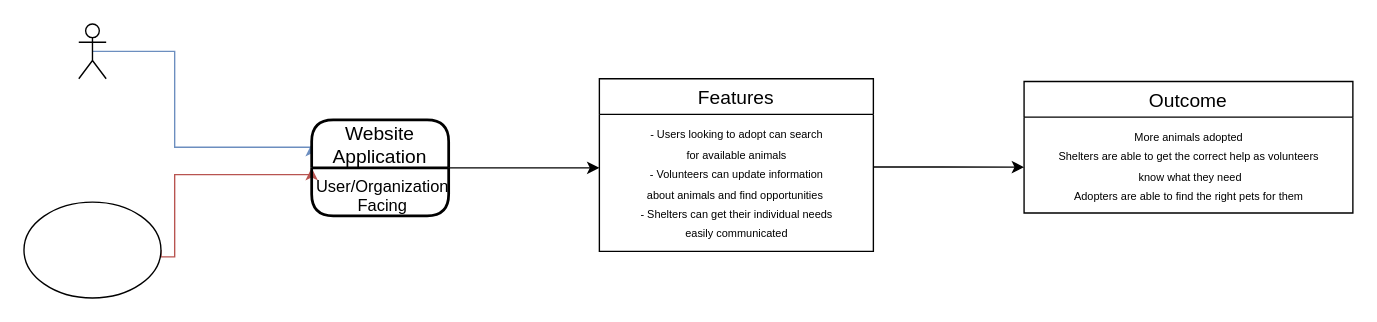
Image size: 1377x322. Some labels were removed from this diagram. The shapes that lost their labels are listed below. From the top down, each one's centre as x and y in pixels, then its label:
the point at 91,51: General User
the point at 92,249: Sheltered Animal Organization
